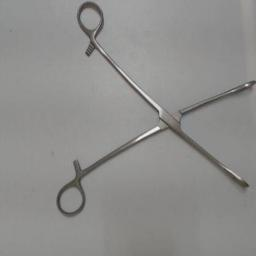Sponge Forceps: (54, 0, 254, 222)
